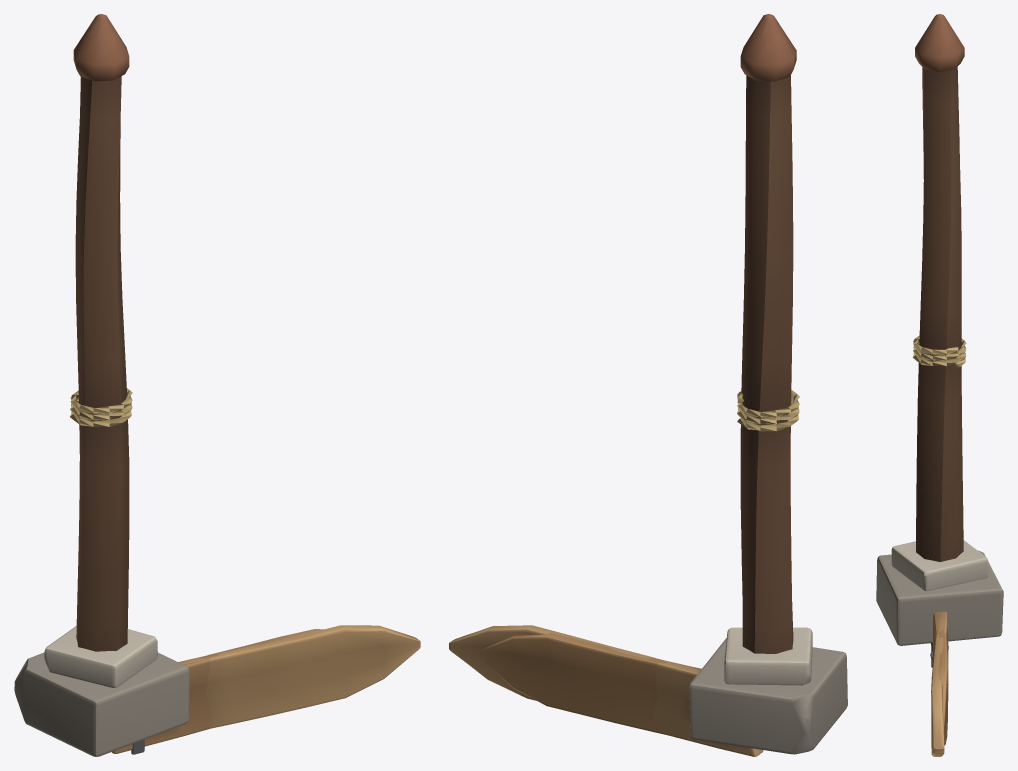
The model's file is pr_signpost.glb.
The picture shows the model from 3 angles, left to right: view 1: azimuth 30°, elevation 25°; view 2: azimuth 150°, elevation 25°; view 3: azimuth 270°, elevation 25°; orthographic projection. The views are drawn at different scales.
Parts seen in each view (by area): view 1: PR_signpost__post, PR_signpost__board, PR_signpost__boardB; view 2: PR_signpost__post, PR_signpost__boardB, PR_signpost__board; view 3: PR_signpost__post, PR_signpost__board, PR_signpost__boardB.
Boxes of the visible parts, x1,y1,x2,y2 form: PR_signpost__post: (14, 14, 189, 756); PR_signpost__board: (131, 625, 420, 754); PR_signpost__boardB: (112, 629, 323, 753); PR_signpost__post: (689, 14, 847, 754); PR_signpost__boardB: (480, 633, 763, 753); PR_signpost__board: (449, 625, 760, 756); PR_signpost__post: (876, 14, 1003, 645); PR_signpost__board: (930, 611, 948, 756); PR_signpost__boardB: (932, 611, 948, 745).
Size of the model in its own units: 1.52 by 2.85 by 0.5158.
